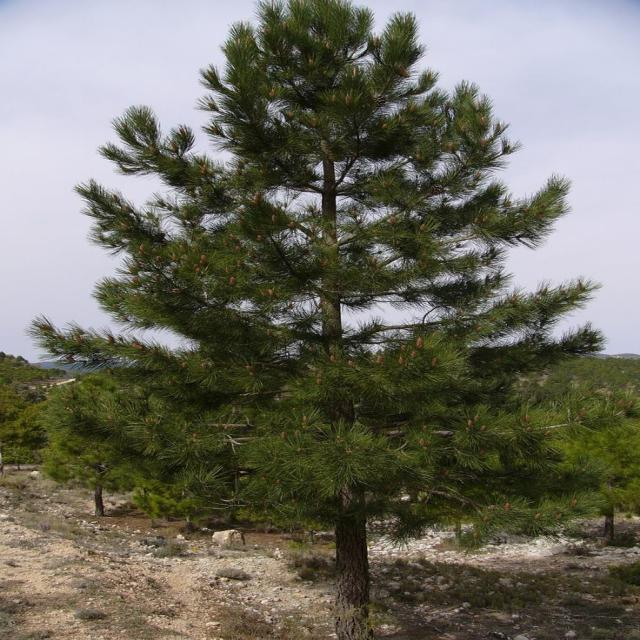pino: (48, 0, 640, 602)
